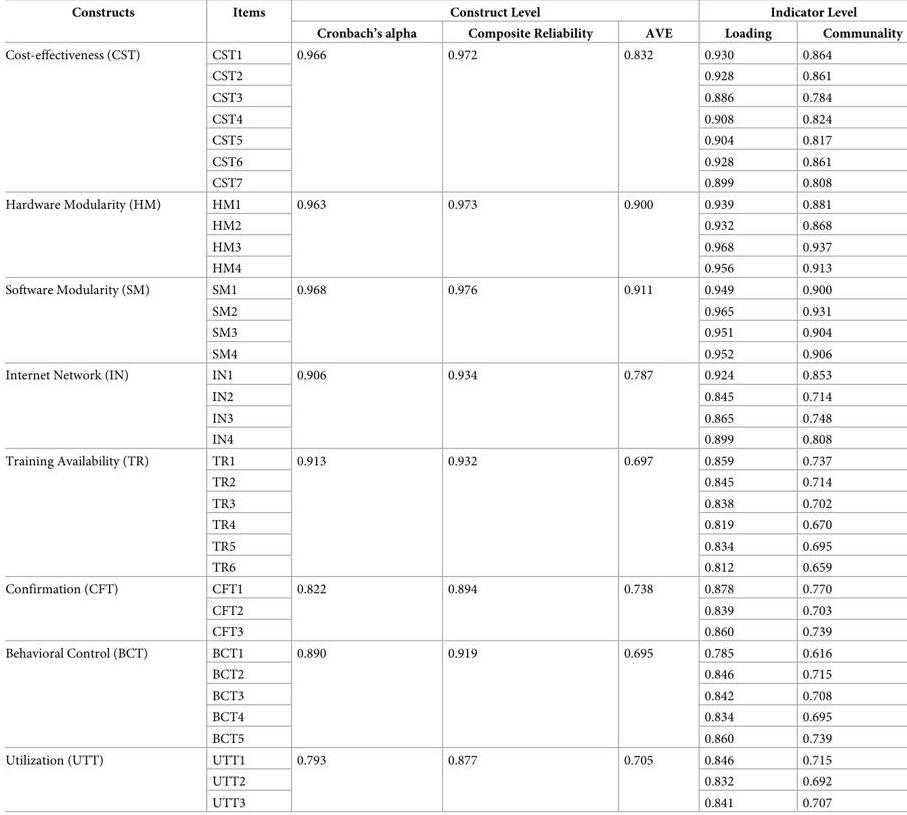table: (4, 5, 902, 809)
table column: (4, 5, 185, 809), (431, 5, 607, 809), (280, 5, 431, 809), (786, 5, 902, 809), (687, 5, 786, 809), (185, 5, 280, 809), (607, 5, 687, 809)
table column header: (4, 5, 902, 44)
table row: (4, 22, 902, 44), (4, 65, 902, 87), (4, 129, 902, 151), (4, 193, 902, 215), (4, 236, 902, 258), (4, 300, 902, 322), (4, 364, 902, 386), (4, 428, 902, 450), (4, 471, 902, 493), (4, 535, 902, 557), (4, 599, 902, 621), (4, 663, 902, 685), (4, 706, 902, 728), (4, 770, 902, 792), (4, 44, 902, 65), (4, 87, 902, 108), (4, 108, 902, 129), (4, 151, 902, 172), (4, 172, 902, 193), (4, 215, 902, 236), (4, 258, 902, 279), (4, 279, 902, 300), (4, 322, 902, 343), (4, 343, 902, 364), (4, 386, 902, 407), (4, 407, 902, 428), (4, 450, 902, 471), (4, 493, 902, 514), (4, 514, 902, 535), (4, 557, 902, 578), (4, 578, 902, 599), (4, 621, 902, 642), (4, 642, 902, 663), (4, 685, 902, 706), (4, 728, 902, 749), (4, 749, 902, 770), (4, 5, 902, 22), (4, 792, 902, 809)
table spanning cell: (4, 44, 185, 193), (431, 44, 607, 193), (4, 450, 185, 578), (431, 450, 607, 578), (280, 44, 431, 193), (4, 642, 185, 749), (280, 450, 431, 578), (431, 642, 607, 749), (280, 642, 431, 749), (4, 193, 185, 279), (4, 364, 185, 450), (4, 279, 185, 364), (431, 193, 607, 279), (431, 364, 607, 450), (431, 279, 607, 364), (280, 193, 431, 279), (280, 364, 431, 450), (280, 279, 431, 364), (607, 44, 687, 193), (4, 578, 185, 642), (431, 578, 607, 642), (4, 749, 185, 809), (431, 749, 607, 809), (607, 450, 687, 578), (280, 578, 431, 642), (280, 749, 431, 809), (607, 642, 687, 749), (4, 5, 185, 44), (280, 5, 687, 22), (607, 193, 687, 279), (607, 364, 687, 450), (607, 279, 687, 364), (607, 578, 687, 642), (607, 749, 687, 809), (185, 5, 280, 44), (687, 5, 902, 22)
